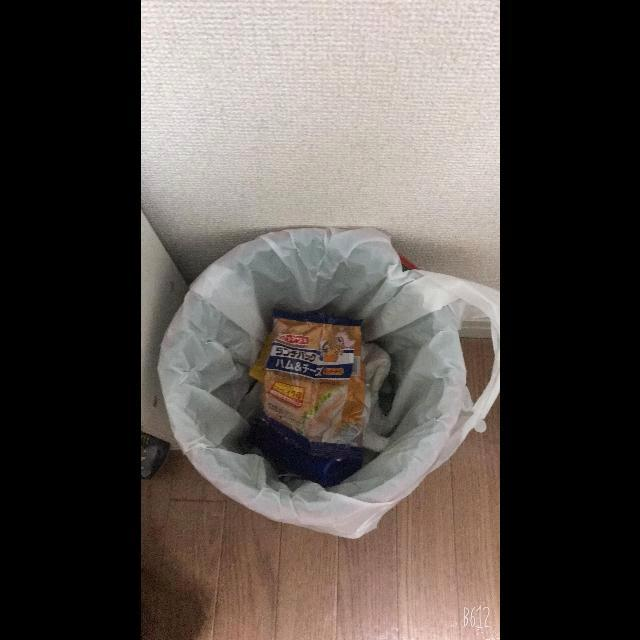food_wrapper: (248, 311, 365, 488)
plastic_bag: (362, 343, 392, 455)
